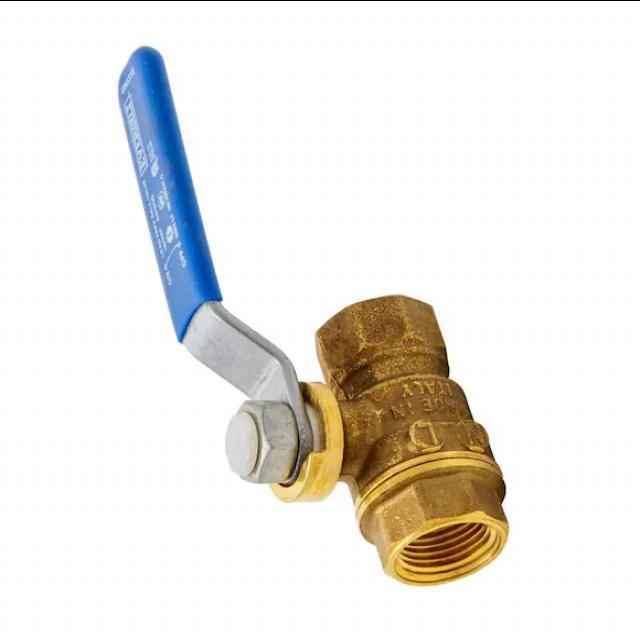opened_valve: (113, 39, 508, 586)
